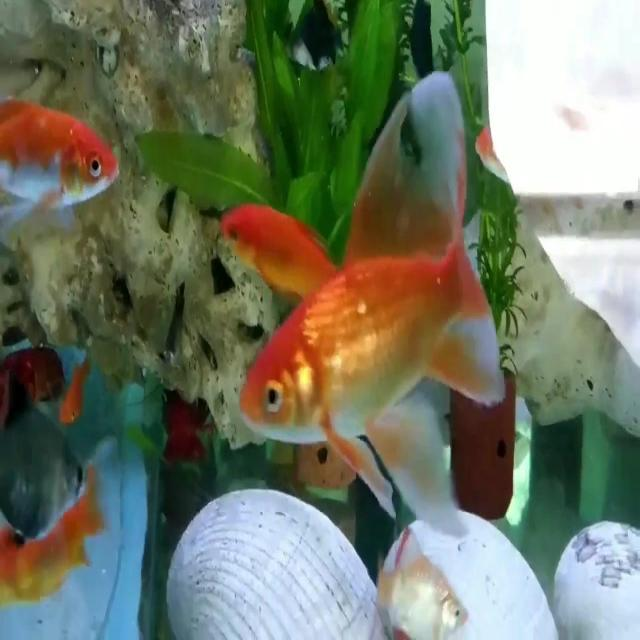GoldFish: (238, 238, 506, 457), (0, 105, 120, 227)
